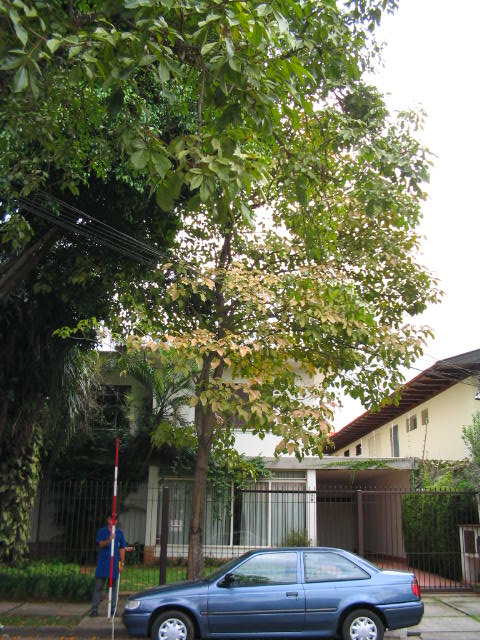crown: (58, 97, 445, 462)
stem: (173, 439, 220, 618)
stick: (104, 437, 124, 619)
tree: (55, 93, 448, 619)
